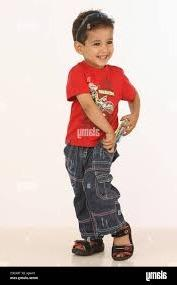Human: (59, 9, 145, 262)
